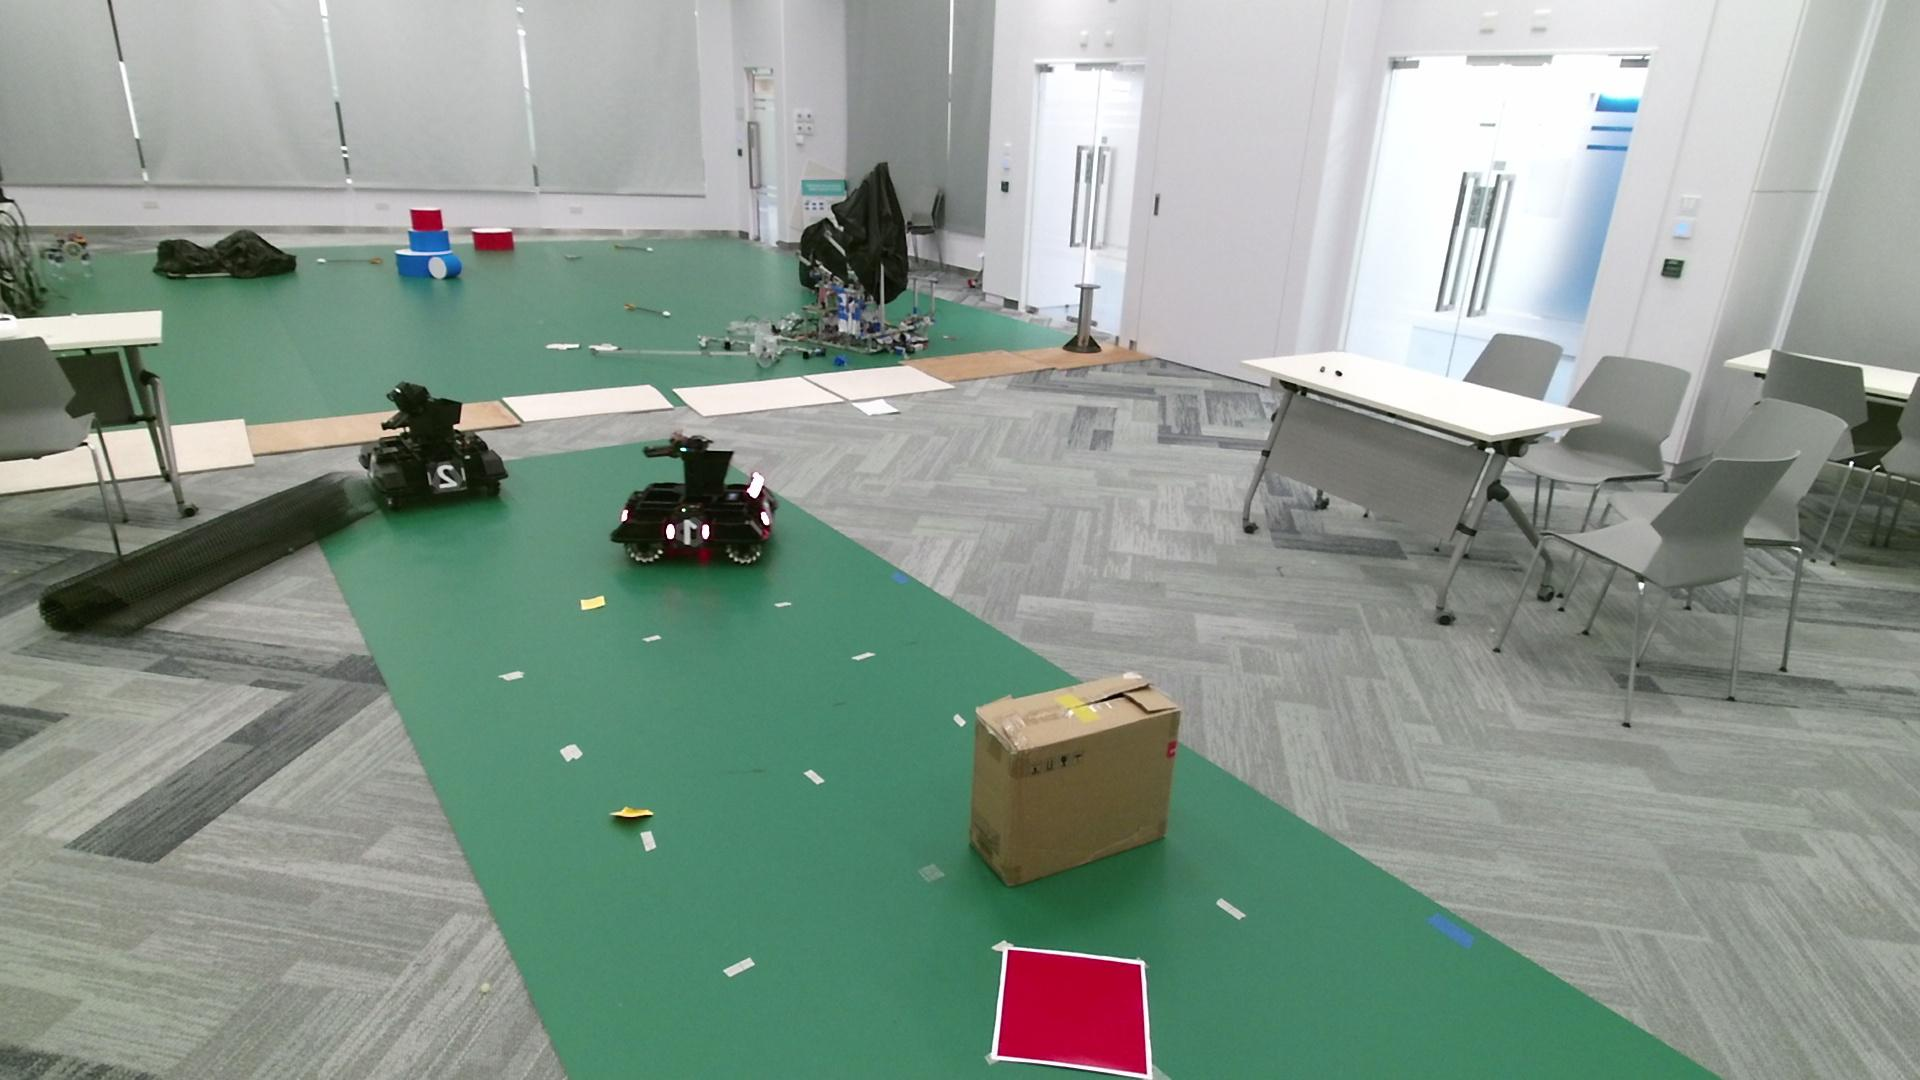robot: (611, 429, 779, 564), (359, 381, 509, 509)
